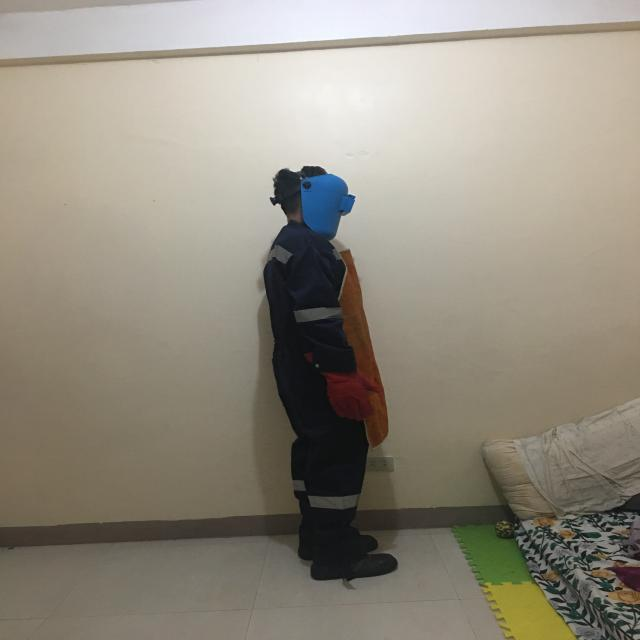with_helmet: (265, 163, 364, 244)
